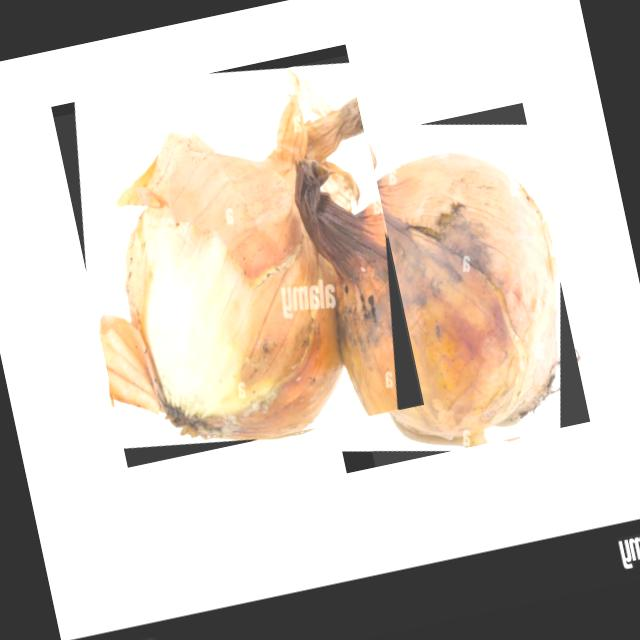rotten: (99, 67, 364, 440), (310, 140, 557, 447)
